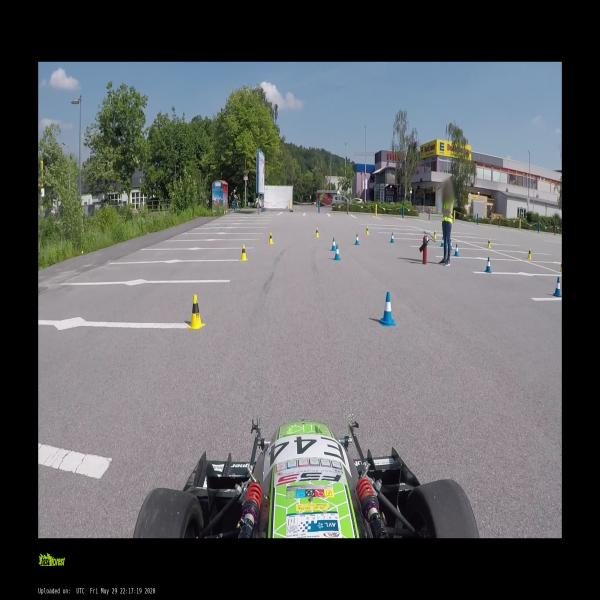blue_cone: (381, 292, 394, 326), (554, 277, 562, 297), (485, 256, 491, 272), (334, 245, 340, 260), (331, 237, 337, 251), (454, 244, 459, 256), (354, 234, 359, 245), (390, 232, 394, 243), (440, 237, 444, 247), (451, 241, 452, 250)
yellow_cone: (187, 295, 205, 331), (241, 245, 247, 262), (269, 232, 273, 244), (487, 239, 491, 248), (315, 228, 319, 237), (528, 248, 531, 260), (560, 259, 562, 273), (366, 226, 369, 235), (434, 230, 436, 239)
